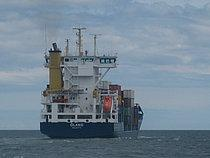Ship: (37, 22, 148, 143)
